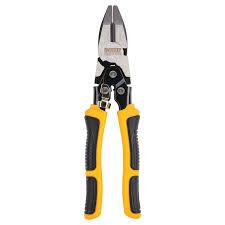pliers: (80, 3, 142, 221)
